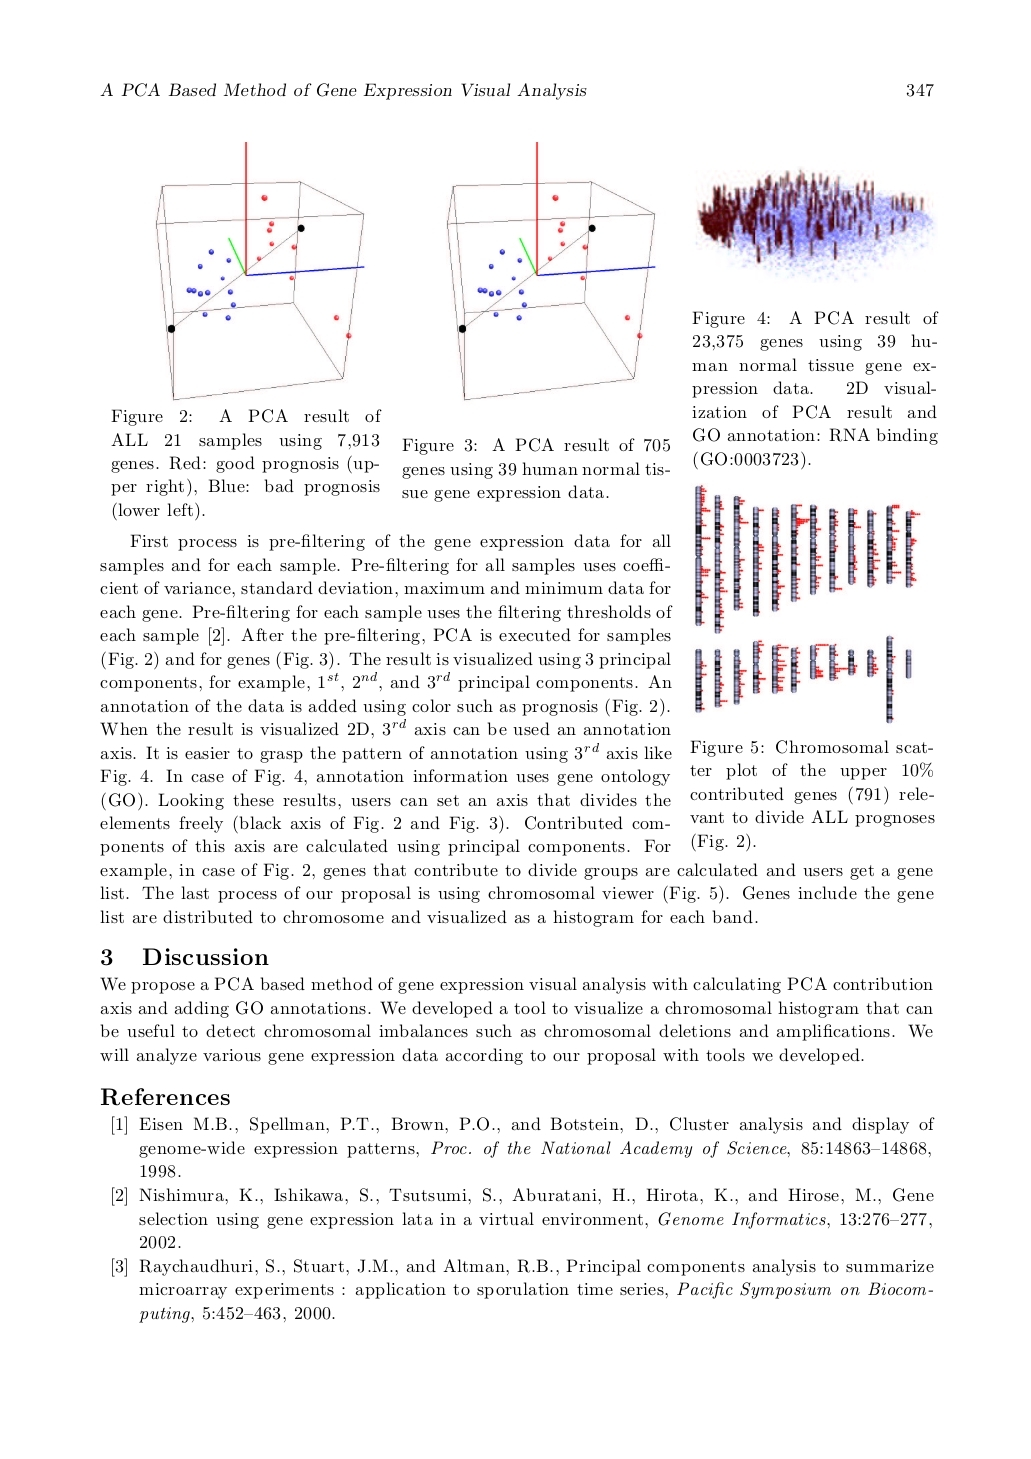figure: (155, 141, 364, 400), (446, 141, 655, 400), (695, 485, 921, 723), (696, 167, 932, 281)
